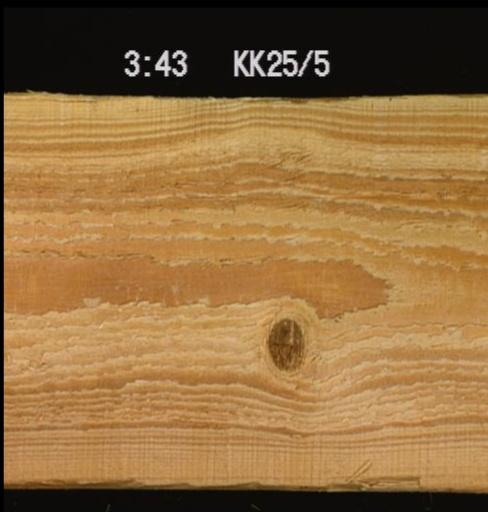sound_knot: (264, 315, 308, 371)
wave: (3, 475, 425, 491), (107, 92, 375, 103)
